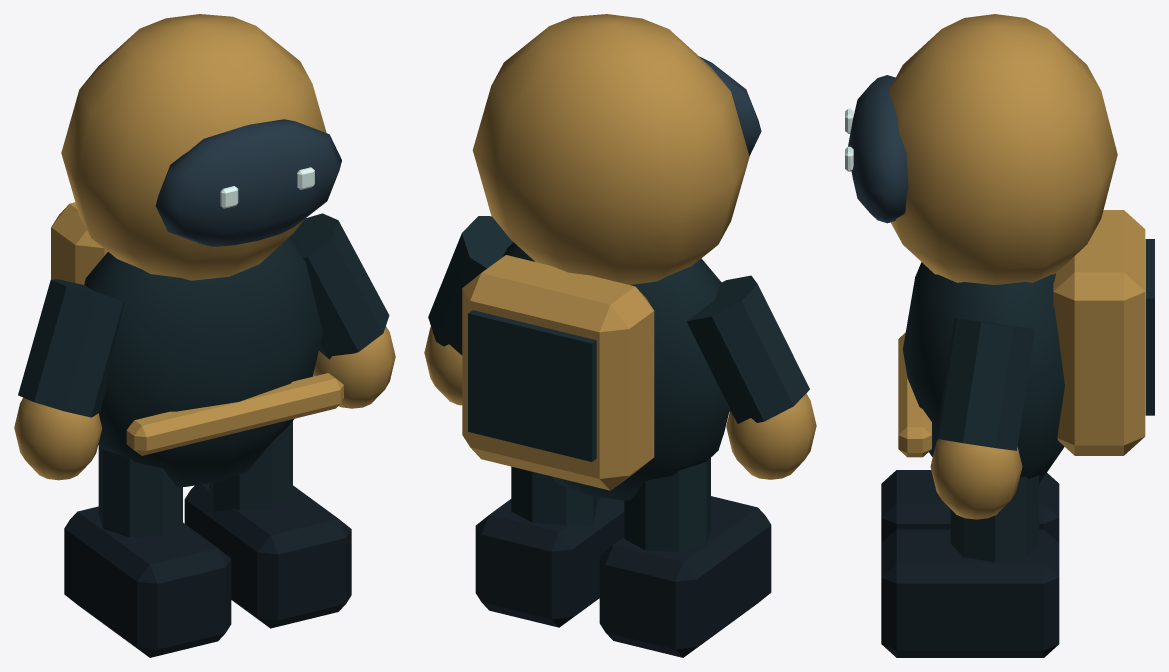
The model's file is hero-explorer.glb.
3 renders of one model, left to right at view 1: azimuth 30°, elevation 25°; view 2: azimuth 150°, elevation 25°; view 3: azimuth 270°, elevation 25°, orthographic. The views are drawn at different scales.
Visible parts, largest first — view 1: hero-explorer; view 2: hero-explorer; view 3: hero-explorer.
Boxes of the visible parts, left/top/right/bottom form: hero-explorer: left=14, top=14, right=395, bottom=657; hero-explorer: left=424, top=14, right=816, bottom=657; hero-explorer: left=845, top=14, right=1154, bottom=657.
Bounding box in the file's own units: 0.704 × 1.05 × 0.5045.
